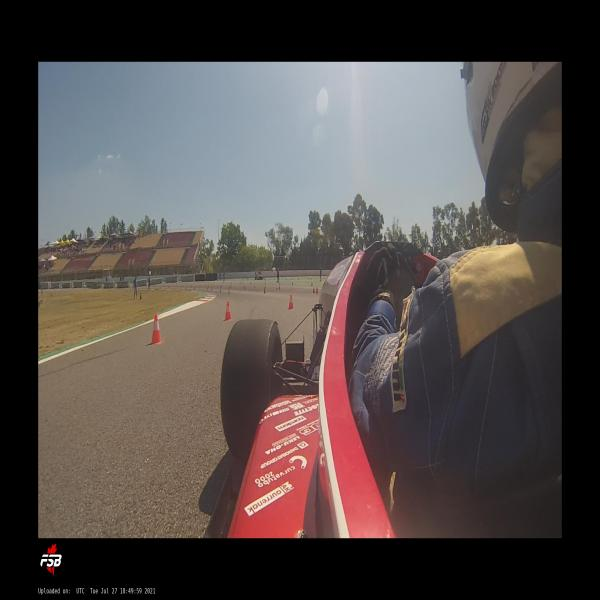orange_cone: (150, 314, 164, 345), (224, 301, 233, 321), (288, 294, 295, 310), (315, 286, 319, 294)
